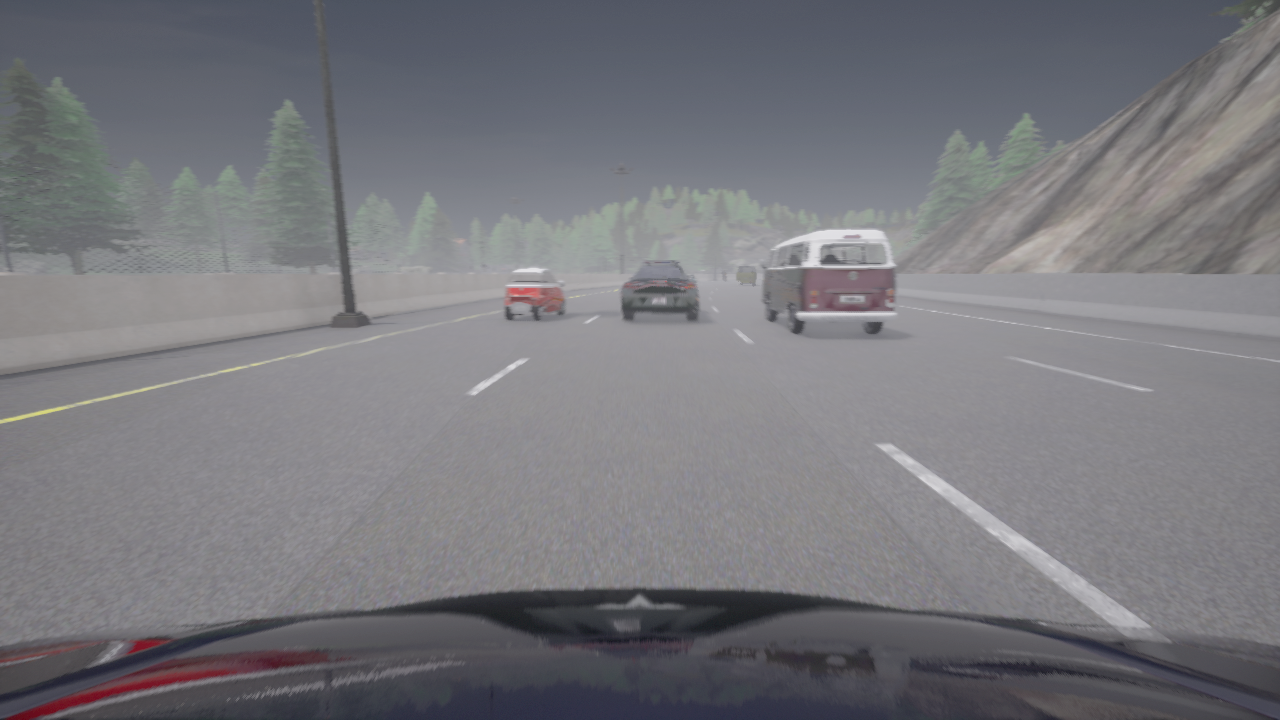cyclist: (0, 588, 1279, 719), (760, 228, 897, 334), (621, 261, 698, 320), (504, 267, 565, 320), (737, 266, 757, 284), (723, 276, 724, 280)
